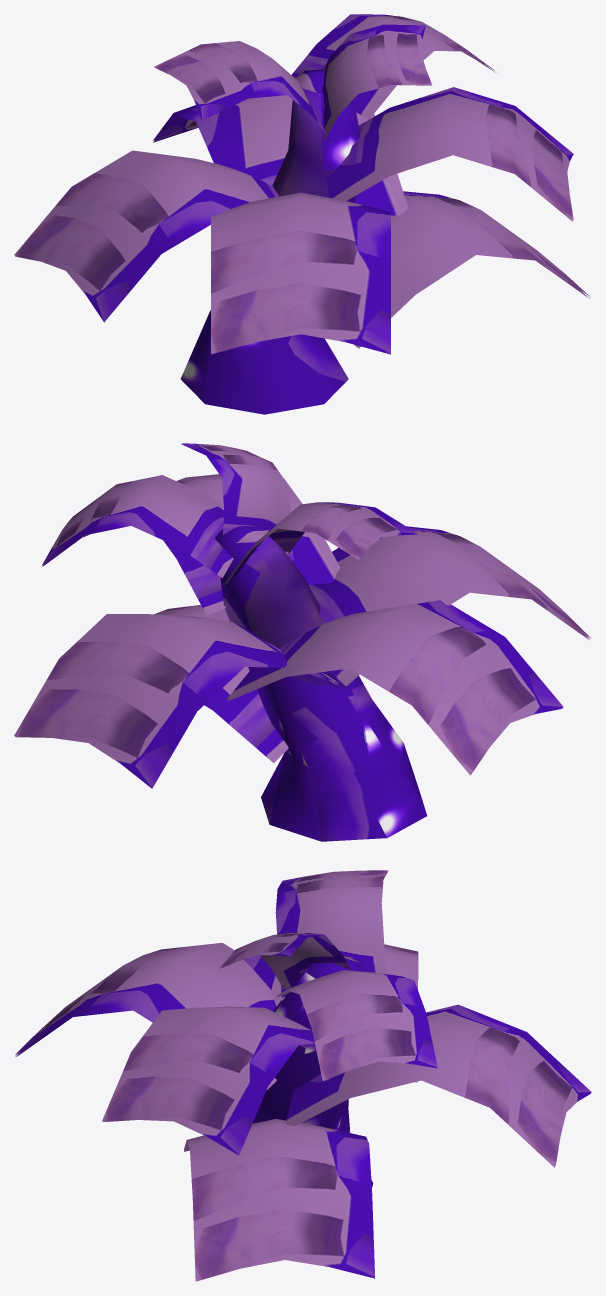
The model's file is Plant_010.fbx.
3 views of the same model, one above another, from view 1: azimuth 30°, elevation 25°; view 2: azimuth 150°, elevation 25°; view 3: azimuth 270°, elevation 25° (orthographic). The views are drawn at different scales.
Parts seen in each view (by area): view 1: Plant_010; view 2: Plant_010; view 3: Plant_010.
Boxes of the visible parts, x1,y1,x2,y2 form: Plant_010: (14, 14, 590, 414); Plant_010: (14, 443, 591, 841); Plant_010: (15, 870, 591, 1281).
Bounding box in the file's own units: 234 × 151 × 249.
